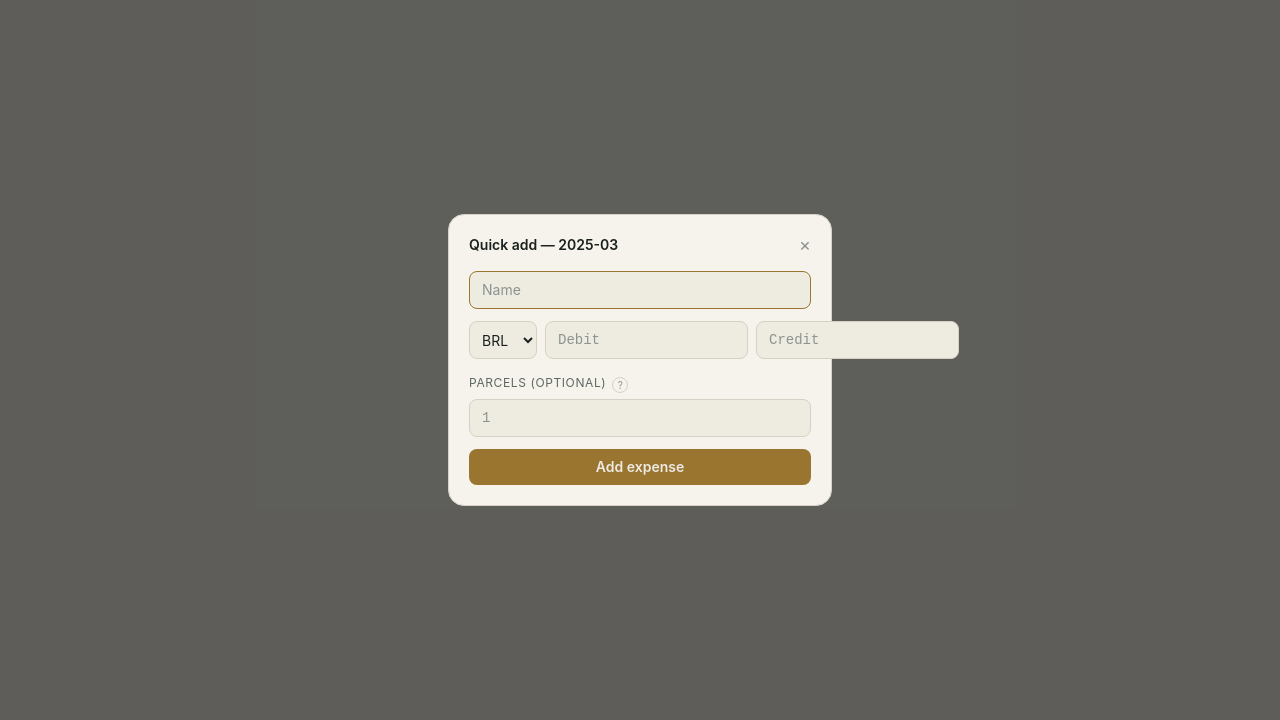
QuickAddModal › shows error and does not close when add fails
Click the button "Add expense" at (640, 467), box [469, 449, 811, 485]
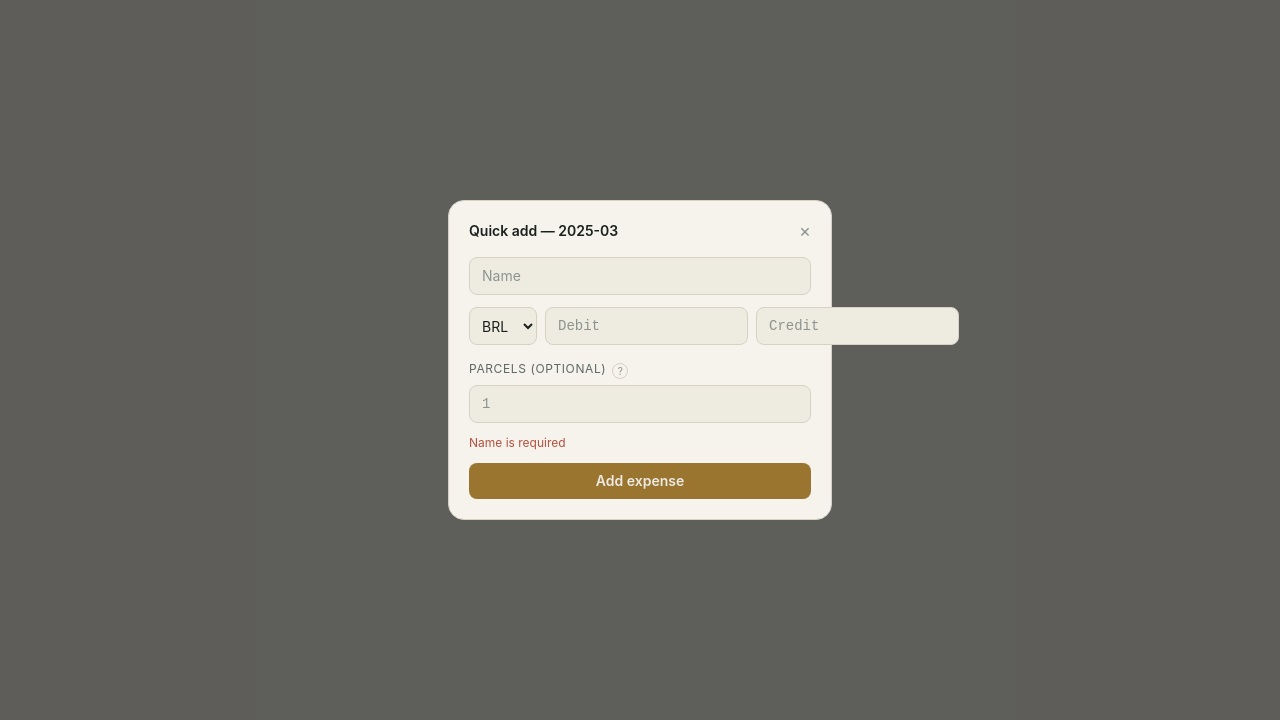
Now the text "Name is required" is shown, box [469, 435, 566, 450]
